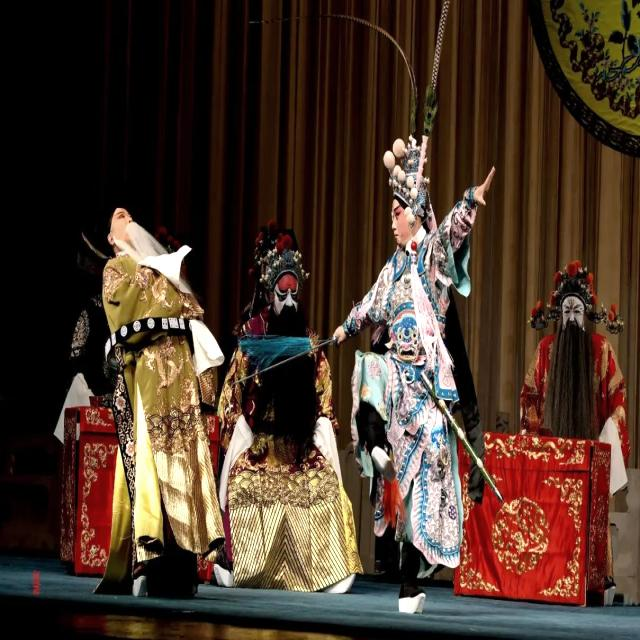Reeves-s Pheasant: (337, 15, 417, 135), (422, 0, 450, 137)
